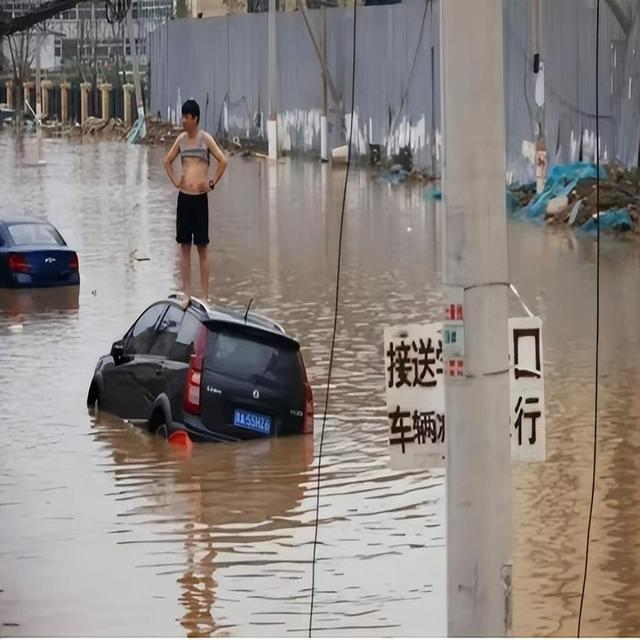Car-RiskLevel3: (72, 284, 351, 459), (0, 208, 93, 297)
Person-RiskLevel3: (155, 85, 241, 316)
